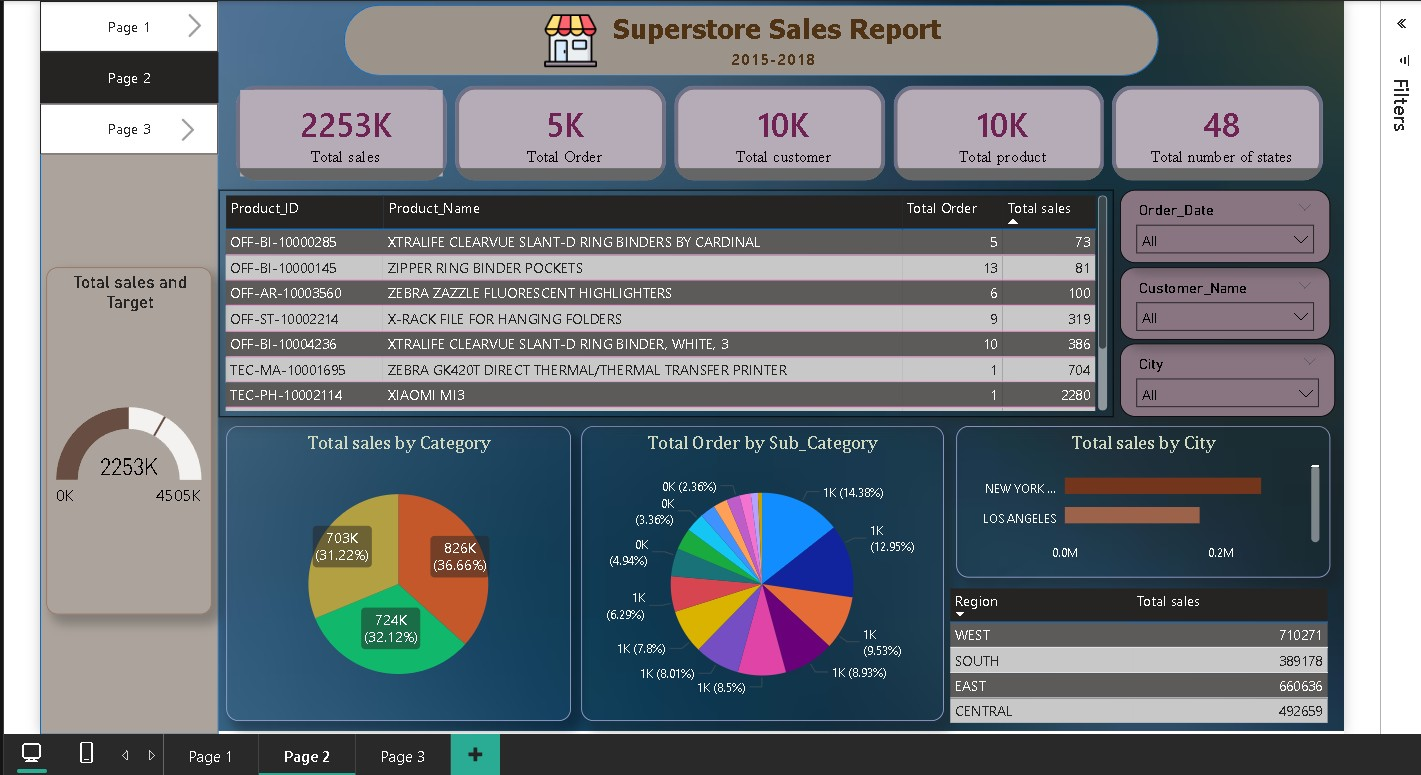

The dashboard page shown, as its layout file describes it:
{"tool":"powerbi","page":{"name":"Page 2","canvas":[1280,720],"ordinal":1},"visuals":[{"type":"shape","box":[0,0,175.5,720.2],"z":0},{"type":"pageNavigator","box":[0,0,175.5,50.3],"z":1000},{"type":"pageNavigator","box":[0,50.3,175.5,50.3],"z":2000},{"type":"cardVisual","fields":{"Data":["superstore_final_dataset (1).total sales","superstore_final_dataset (1).total order","superstore_final_dataset (1).total customer","superstore_final_dataset (1).total product","superstore_final_dataset (1).total number of states"]},"box":[175.5,66.3,1104.3,127.6],"z":3000},{"type":"pieChart","fields":{"Y":["superstore_final_dataset (1).total sales"],"Category":["superstore_final_dataset (1).Category"]},"box":[182.8,417.2,338.7,289.6],"z":4000},{"type":"pieChart","fields":{"Y":["superstore_final_dataset (1).Total Order"],"Category":["superstore_final_dataset (1).Sub_Category"]},"box":[531.3,417.2,355.8,289.6],"z":5000},{"type":"tableEx","fields":{"Values":["superstore_final_dataset (1).Product_ID","superstore_final_dataset (1).Product_Name","superstore_final_dataset (1).Total Order","superstore_final_dataset (1).total sales"]},"box":[175.5,185.3,878.5,223.3],"z":6000},{"type":"barChart","fields":{"Y":["superstore_final_dataset (1).total sales"],"Category":["superstore_final_dataset (1).City"]},"box":[899.4,417.2,366.9,148.5],"z":7000},{"type":"tableEx","fields":{"Values":["superstore_final_dataset (1).Region","superstore_final_dataset (1).total sales"]},"box":[887.1,571.8,392.6,148.5],"z":8000},{"type":"slicer","fields":{"Values":["superstore_final_dataset (1).City"]},"box":[1060.1,336.2,211,72.4],"z":9000},{"type":"slicer","fields":{"Values":["superstore_final_dataset (1).Customer_Name"]},"box":[1060.1,261.4,206.1,71.2],"z":10000},{"type":"slicer","fields":{"Values":["superstore_final_dataset (1).Order_Date"]},"box":[1060.1,185.3,206.1,72.4],"z":11000},{"type":"pageNavigator","box":[0,100.6,175.5,50.3],"z":12000},{"type":"shape","box":[298.2,3.7,800,69.9],"z":13000},{"type":"textbox","box":[557.1,6.1,341.1,44.2],"z":14000},{"type":"textbox","box":[673.6,39.3,108,34.4],"z":15000},{"type":"image","box":[474.8,12.3,92,54],"z":16000},{"type":"image","box":[133.7,3.7,35.6,40.5],"z":17000},{"type":"image","box":[120.2,109.2,49.1,34.4],"z":18000},{"type":"gauge","fields":{"Y":["superstore_final_dataset (1).Total sales"],"TargetValue":["superstore_final_dataset (1).target"]},"box":[5.6,261.6,162.8,340.9],"z":19000}]}

Visuals, with their boxes on the page's 1280x720 design canvas (x1, y1, x2, y2). These are canvas units, not pixel positions in the 1421x775 screenshot, which may show the page scaled, cropped or inside an application window:
shape: [x1=0, y1=0, x2=176, y2=720]
pageNavigator: [x1=0, y1=0, x2=176, y2=50]
pageNavigator: [x1=0, y1=50, x2=176, y2=101]
cardVisual - superstore_final_dataset (1).total sales x superstore_final_dataset (1).total order: [x1=176, y1=66, x2=1280, y2=194]
pieChart - superstore_final_dataset (1).total sales x superstore_final_dataset (1).Category: [x1=183, y1=417, x2=522, y2=707]
pieChart - superstore_final_dataset (1).Total Order x superstore_final_dataset (1).Sub_Category: [x1=531, y1=417, x2=887, y2=707]
tableEx - superstore_final_dataset (1).Product_ID x superstore_final_dataset (1).Product_Name: [x1=176, y1=185, x2=1054, y2=409]
barChart - superstore_final_dataset (1).total sales x superstore_final_dataset (1).City: [x1=899, y1=417, x2=1266, y2=566]
tableEx - superstore_final_dataset (1).Region x superstore_final_dataset (1).total sales: [x1=887, y1=572, x2=1280, y2=720]
slicer - superstore_final_dataset (1).City: [x1=1060, y1=336, x2=1271, y2=409]
slicer - superstore_final_dataset (1).Customer_Name: [x1=1060, y1=261, x2=1266, y2=333]
slicer - superstore_final_dataset (1).Order_Date: [x1=1060, y1=185, x2=1266, y2=258]
pageNavigator: [x1=0, y1=101, x2=176, y2=151]
shape: [x1=298, y1=4, x2=1098, y2=74]
textbox: [x1=557, y1=6, x2=898, y2=50]
textbox: [x1=674, y1=39, x2=782, y2=74]
image: [x1=475, y1=12, x2=567, y2=66]
image: [x1=134, y1=4, x2=169, y2=44]
image: [x1=120, y1=109, x2=169, y2=144]
gauge - superstore_final_dataset (1).Total sales x superstore_final_dataset (1).target: [x1=6, y1=262, x2=168, y2=602]
